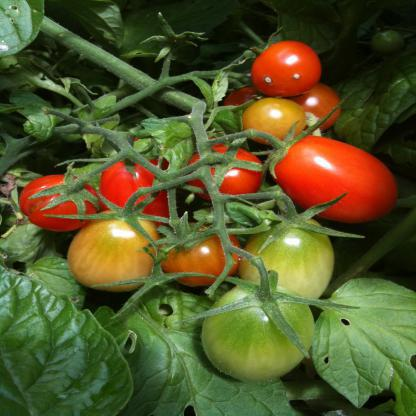tomato: (132, 16, 228, 151), (170, 310, 236, 398), (141, 153, 202, 229)
